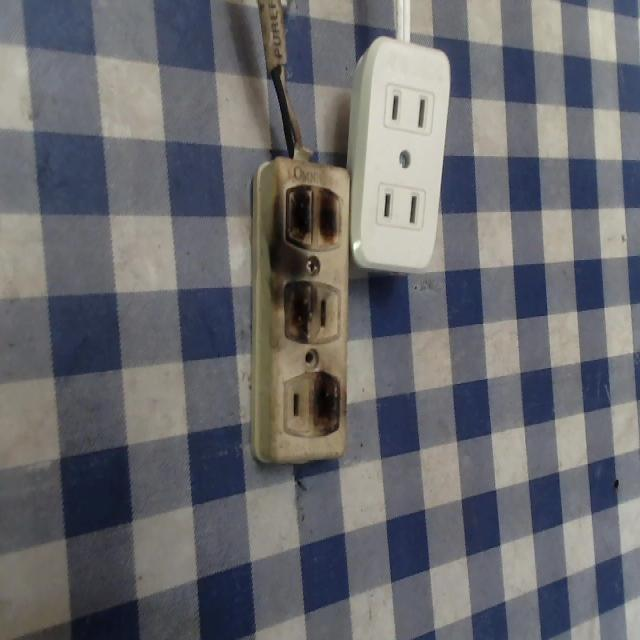-: (266, 167, 352, 257), (268, 272, 321, 355), (312, 367, 342, 437)
